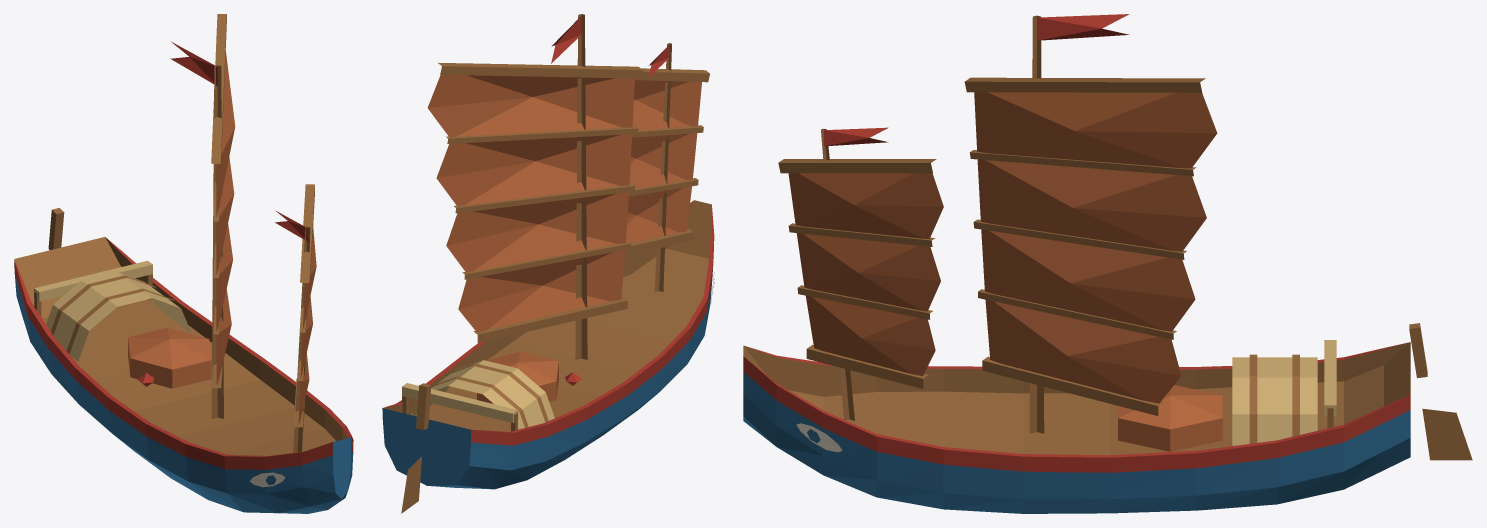
Rendered from ship_net_boat.glb.
3 views of the same model, side by side, from view 1: azimuth 30°, elevation 25°; view 2: azimuth 150°, elevation 25°; view 3: azimuth 270°, elevation 25° (orthographic). The views are drawn at different scales.
Visible parts, largest first — view 1: ship_net_boat; view 2: ship_net_boat; view 3: ship_net_boat.
Boxes of the visible parts, x1,y1,x2,y2 form: ship_net_boat: (14,14,353,513); ship_net_boat: (382,14,714,513); ship_net_boat: (743,14,1472,513).
Bounding box in the file's own units: 2.81 × 6.76 × 9.4.
